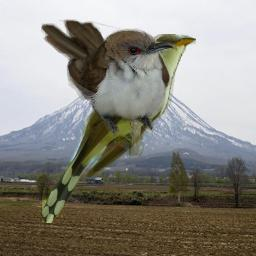Cuckoo: (42, 34, 196, 223), (41, 19, 175, 138)
